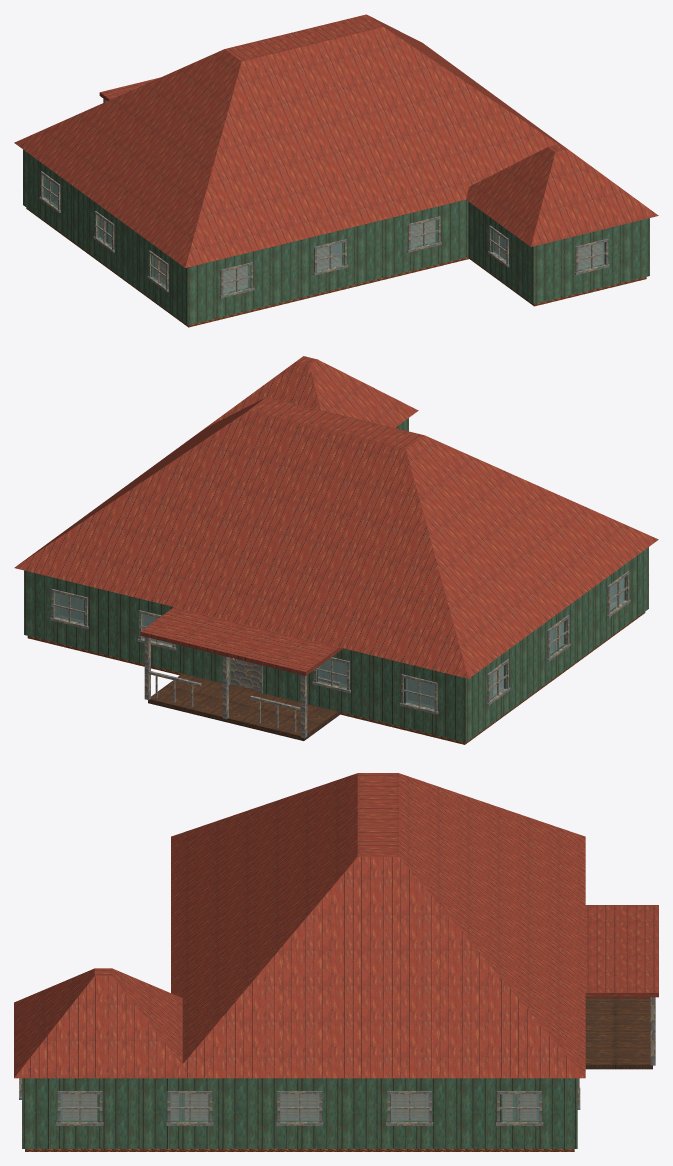
Rendered from linden-clinic.gltf.
3 renders of one model, top to bottom at view 1: azimuth 30°, elevation 25°; view 2: azimuth 150°, elevation 25°; view 3: azimuth 270°, elevation 25°, orthographic. The views are drawn at different scales.
Parts seen in each view (by area): view 1: roof-L0-brown-shingle, exterior-L0-plaster, trim-L0-dark-wood, glazing-L0-glass, floor-L0-floor; view 2: roof-L0-brown-shingle, exterior-L0-plaster, porch-L0-brown-shingle, porch-L0-stone, trim-L0-dark-wood, glazing-L0-glass, porch-L0-dark-wood, interior-L0-interior, floor-L0-floor, door-leaf-L0-dark-wood; view 3: roof-L0-brown-shingle, exterior-L0-plaster, porch-L0-brown-shingle, glazing-L0-glass, porch-L0-stone, floor-L0-floor, trim-L0-dark-wood.
Part boxes in pixels (left/top/right/bottom): roof-L0-brown-shingle: left=14, top=14, right=658, bottom=267; exterior-L0-plaster: left=23, top=149, right=649, bottom=325; trim-L0-dark-wood: left=39, top=171, right=609, bottom=298; glazing-L0-glass: left=45, top=177, right=604, bottom=293; floor-L0-floor: left=26, top=208, right=646, bottom=327; roof-L0-brown-shingle: left=14, top=356, right=658, bottom=678; exterior-L0-plaster: left=24, top=418, right=648, bottom=742; porch-L0-brown-shingle: left=140, top=607, right=343, bottom=675; porch-L0-stone: left=148, top=673, right=339, bottom=740; trim-L0-dark-wood: left=50, top=571, right=630, bottom=714; glazing-L0-glass: left=55, top=578, right=624, bottom=708; porch-L0-dark-wood: left=144, top=637, right=340, bottom=738; interior-L0-interior: left=60, top=594, right=556, bottom=705; floor-L0-floor: left=27, top=602, right=645, bottom=744; door-leaf-L0-dark-wood: left=231, top=659, right=259, bottom=691; roof-L0-brown-shingle: left=14, top=773, right=585, bottom=1078; exterior-L0-plaster: left=22, top=1078, right=577, bottom=1148; porch-L0-brown-shingle: left=585, top=905, right=658, bottom=997; glazing-L0-glass: left=60, top=1094, right=539, bottom=1120; porch-L0-stone: left=585, top=997, right=652, bottom=1069; floor-L0-floor: left=25, top=1095, right=574, bottom=1151; trim-L0-dark-wood: left=19, top=1078, right=580, bottom=1125.
Bounding box in the file's own units: 14.56 × 6.21 × 16.43.
Materials: 8 (7 with a texture image).
